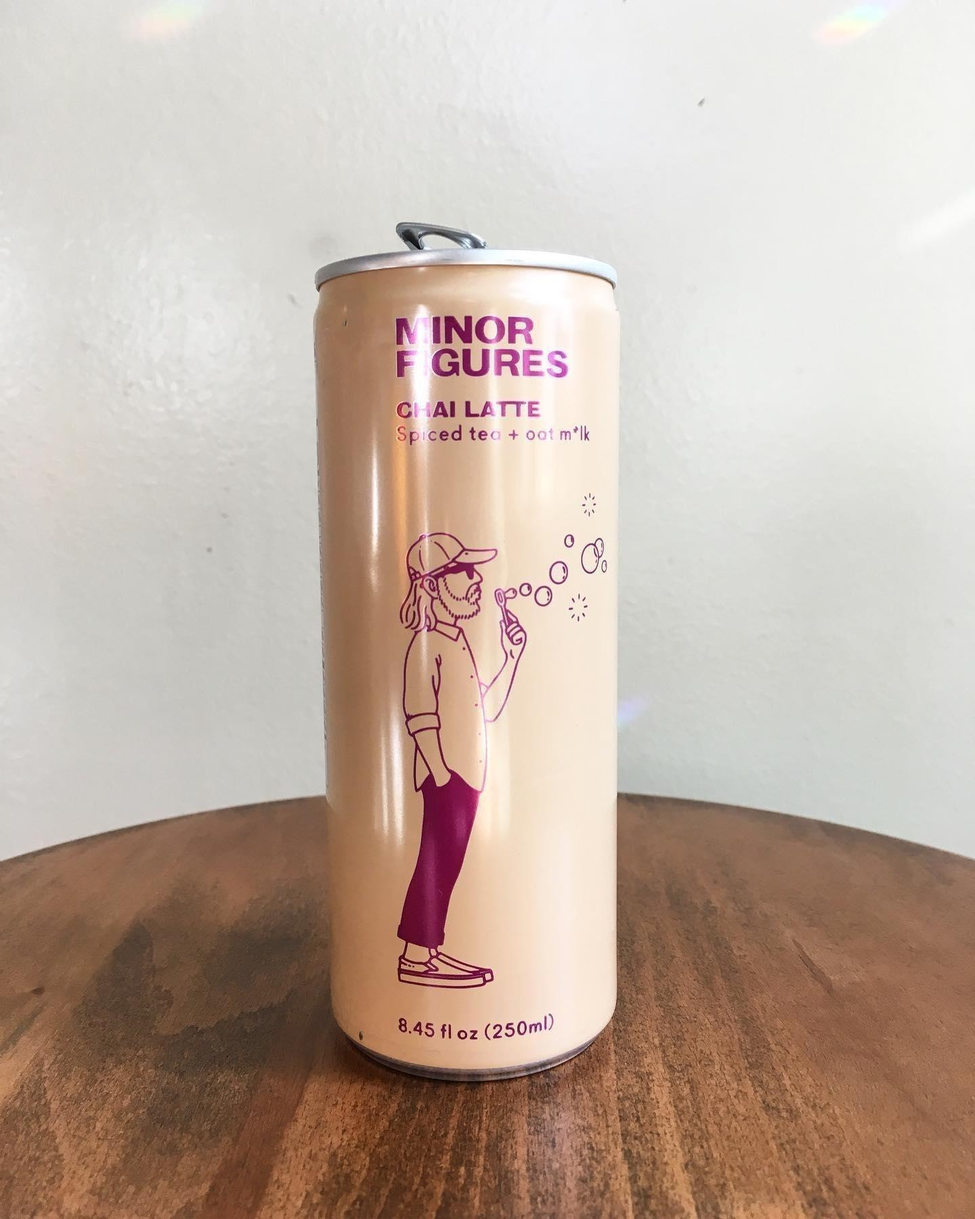tin can: (299, 222, 650, 1093)
